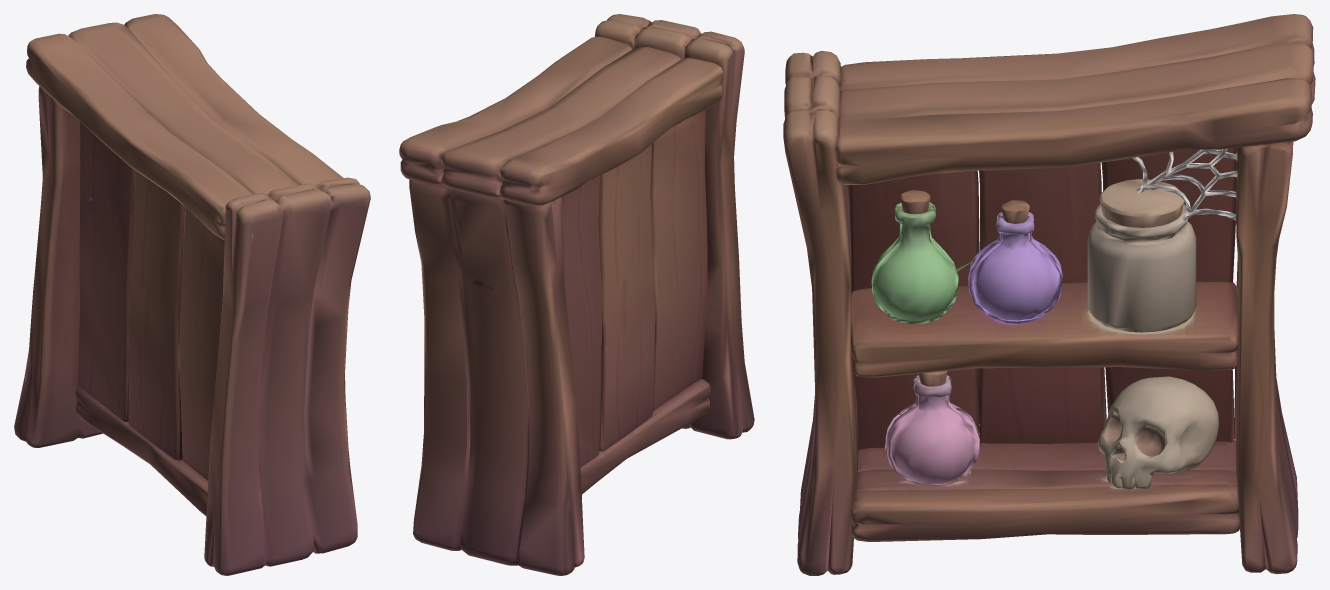
File: H8_PotionShelf_LOD1.fbx
The picture shows the model from 3 angles, left to right: view 1: azimuth 30°, elevation 25°; view 2: azimuth 150°, elevation 25°; view 3: azimuth 270°, elevation 25°; orthographic projection. The views are drawn at different scales.
Parts seen in each view (by area): view 1: H8_PotionShelf_LOD1; view 2: H8_PotionShelf_LOD1; view 3: H8_PotionShelf_LOD1.
Boxes of the visible parts, x1,y1,x2,y2 form: H8_PotionShelf_LOD1: (14, 14, 370, 575); H8_PotionShelf_LOD1: (399, 14, 754, 575); H8_PotionShelf_LOD1: (783, 14, 1315, 575).
Size of the model in its own units: 0.6357 by 1.5 by 1.47.
1 material, 1 textured.
